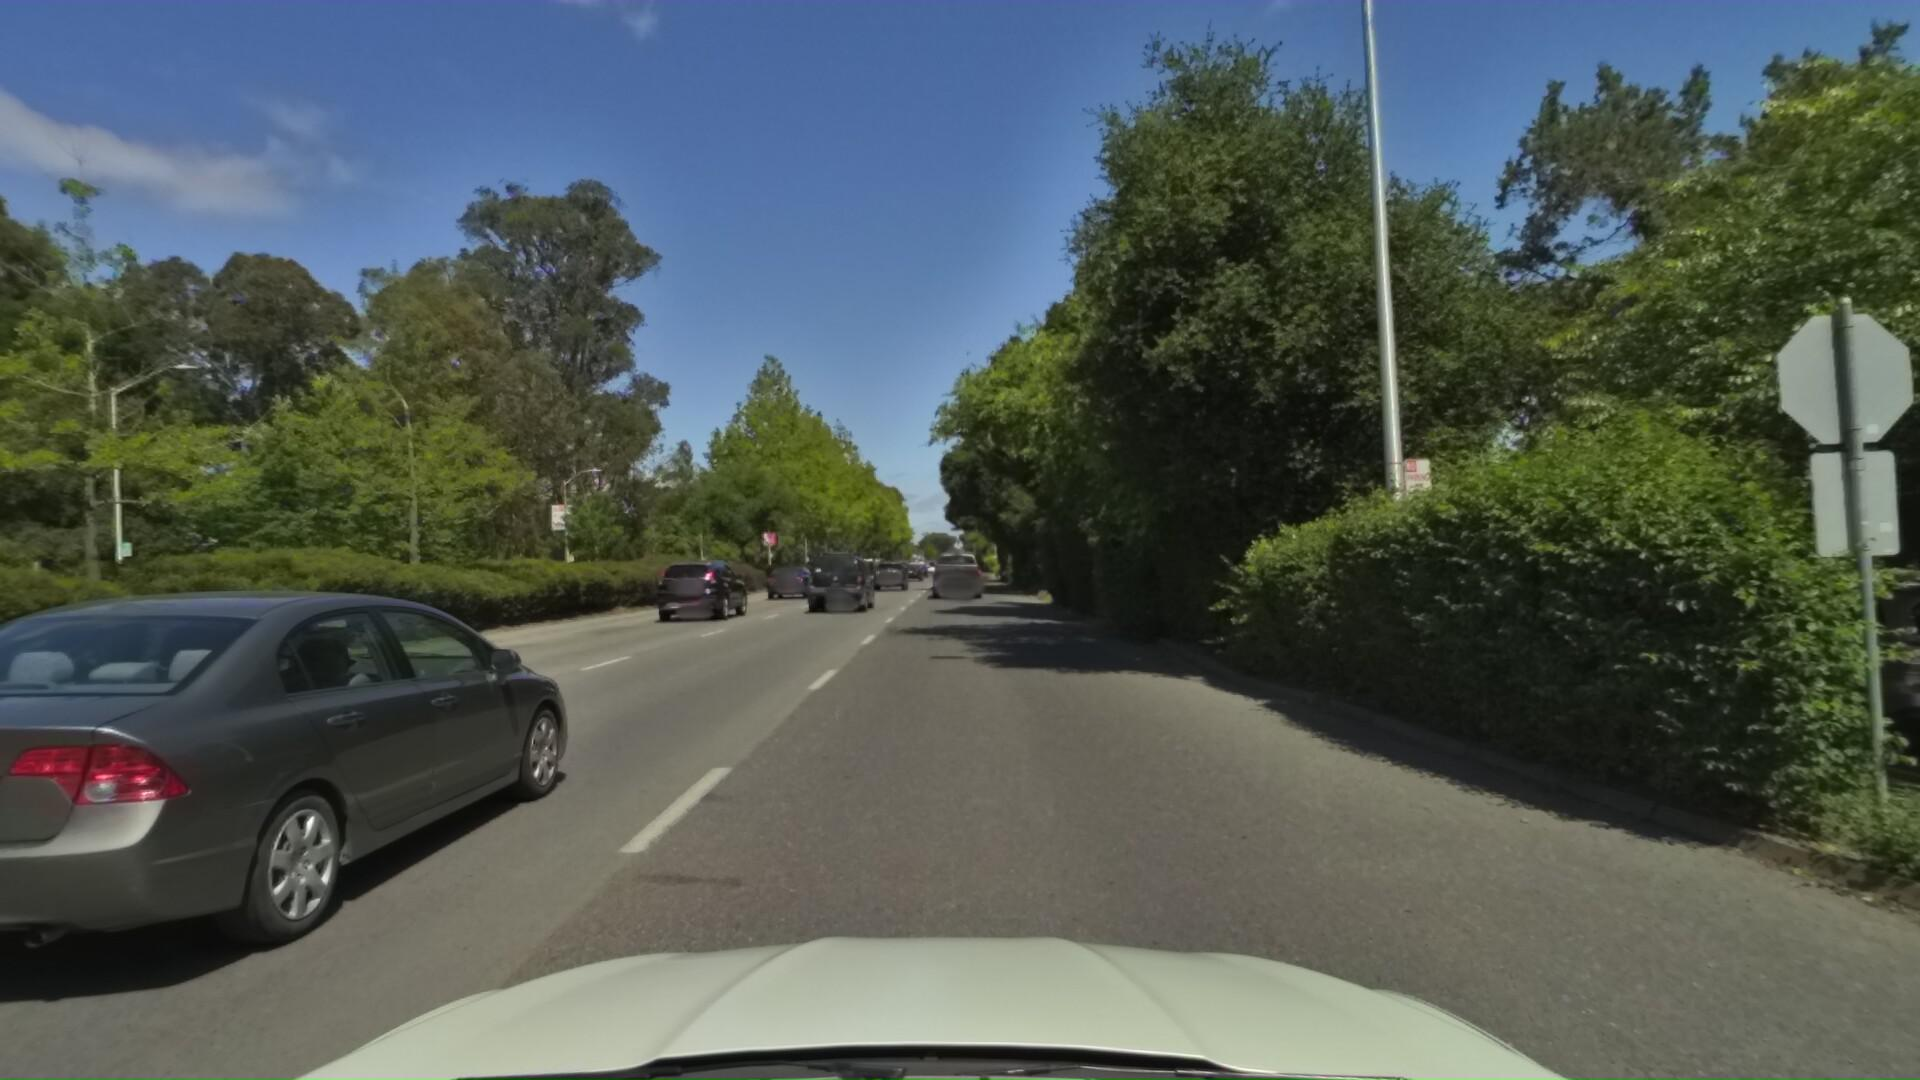car: (0, 572, 603, 1073), (1647, 568, 1920, 799), (651, 553, 753, 624), (803, 542, 881, 613), (928, 542, 985, 604), (765, 558, 820, 600), (872, 554, 910, 589), (899, 560, 926, 582)
